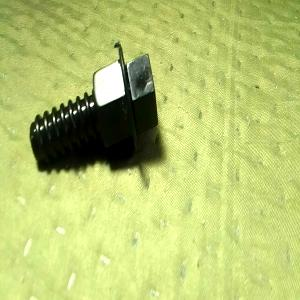parafuso: (27, 38, 160, 172)
